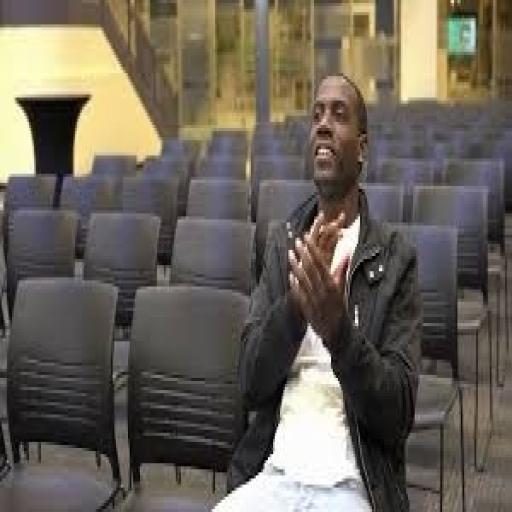clapping: (218, 67, 425, 509)
